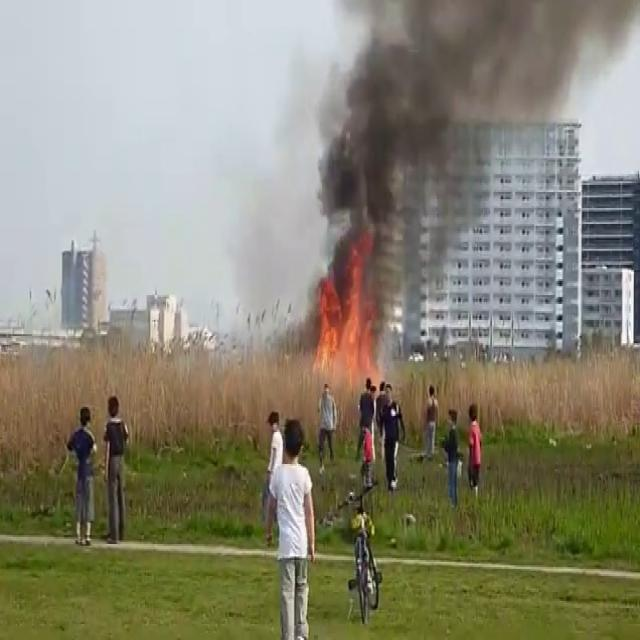Fire: (306, 266, 380, 392)
Smoke: (302, 0, 517, 304)
